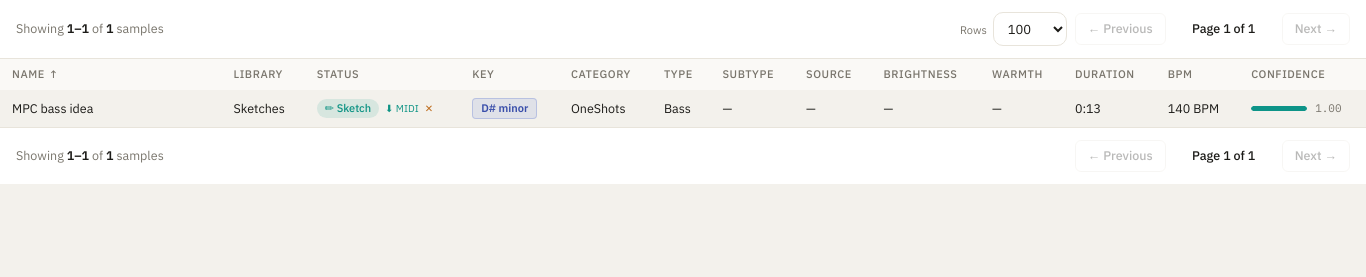
Test: SampleTable — sketch rows › delete asks for confirmation and removes the row
Click the button titled "Delete this sketch" at (429,109), box [425, 102, 433, 116]
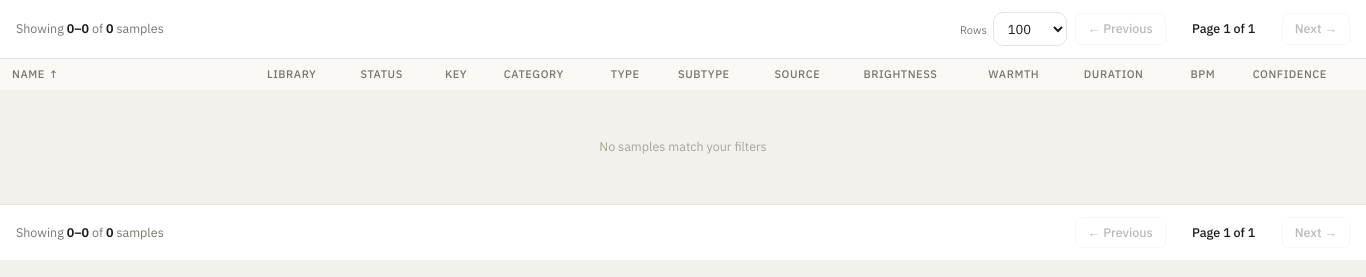
Expected: the text "MPC bass idea" is gone
